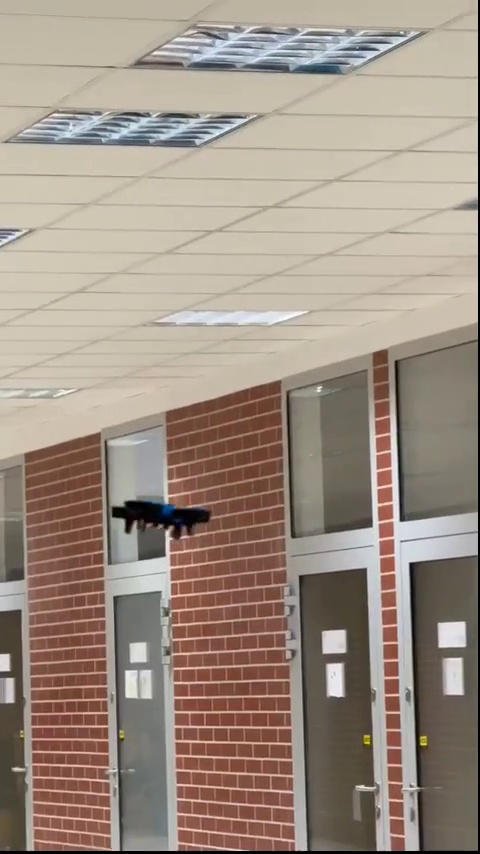drone: (117, 497, 211, 540)
